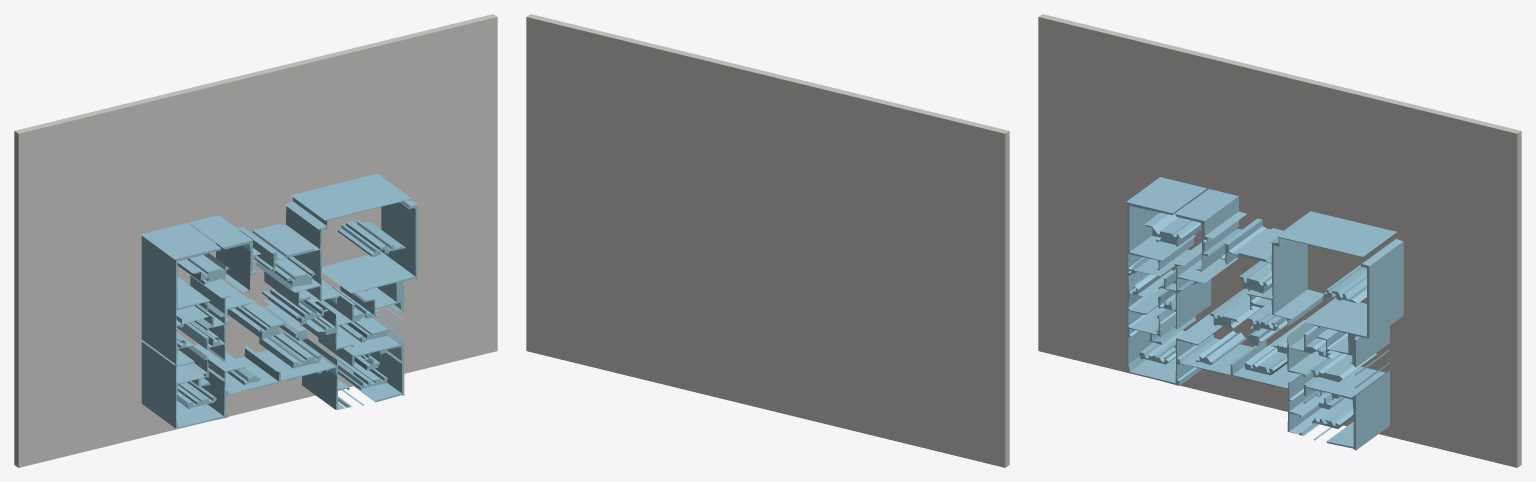
3 renders of one model, left to right at view 1: azimuth 30°, elevation 25°; view 2: azimuth 150°, elevation 25°; view 3: azimuth 330°, elevation 25°, orthographic.
Visible parts, largest first — view 1: world; view 2: world; view 3: world.
Part boxes in pixels (x1=…): world: x1=14, y1=14, x2=497, y2=467; world: x1=526, y1=14, x2=1009, y2=467; world: x1=1038, y1=14, x2=1521, y2=467.
Size of the model in its own units: 10.23 by 6.82 by 1.42.
